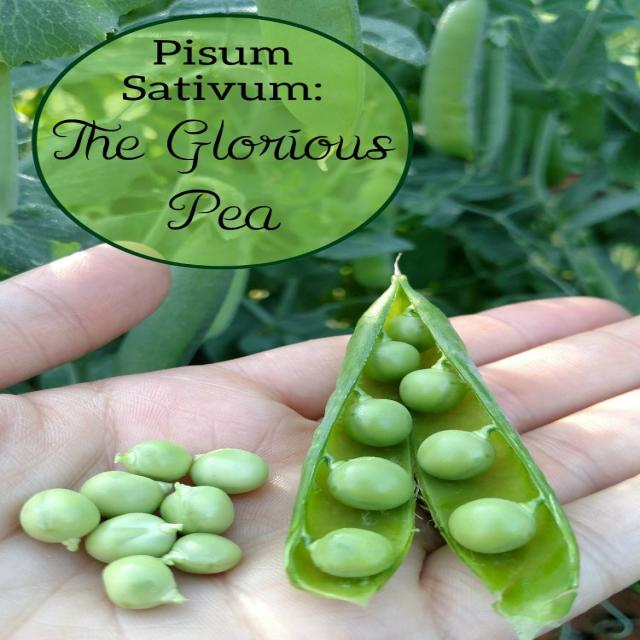pea: (283, 265, 582, 618), (17, 439, 262, 611)
